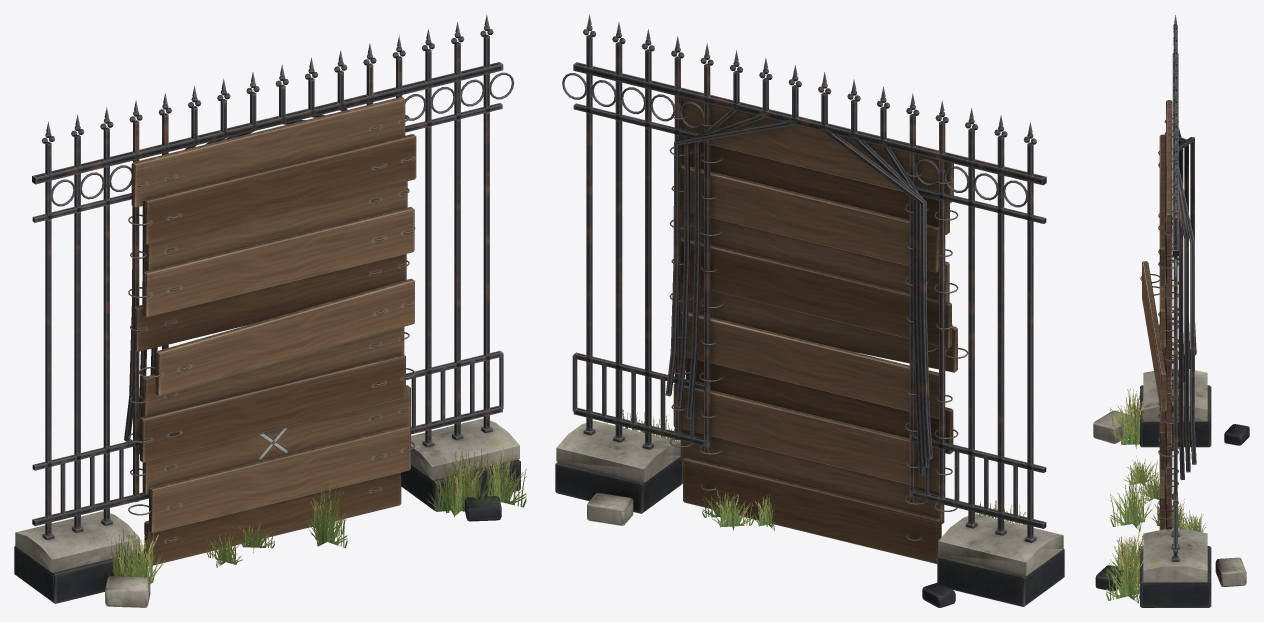
Rendered from SneakBentBars.fbx.
The picture shows the model from 3 angles, left to right: view 1: azimuth 30°, elevation 25°; view 2: azimuth 150°, elevation 25°; view 3: azimuth 270°, elevation 25°; orthographic projection. The views are drawn at different scales.
Parts seen in each view (by area): view 1: SneakBentBars_Main, SneakBentBars_Board9, SneakBentBars_Board7, SneakBentBars_Board3, SneakBentBars_Board1, SneakBentBars_Board5, SneakBentBars_Board10, SneakBentBars_Board6, SneakBentBars_Leaves, SneakBentBars_Board0, SneakBentBars_Board2, SneakBentBars_Board8 (+1 smaller); view 2: SneakBentBars_Main, SneakBentBars_Board0, SneakBentBars_Board2, SneakBentBars_Board6, SneakBentBars_Board8, SneakBentBars_Board4, SneakBentBars_Board10, SneakBentBars_Board1, SneakBentBars_Board5, SneakBentBars_Board7, SneakBentBars_Board3, SneakBentBars_Board9 (+1 smaller); view 3: SneakBentBars_Main, SneakBentBars_Leaves, SneakBentBars_Board5, SneakBentBars_Board9, SneakBentBars_Board10, SneakBentBars_Board3, SneakBentBars_Board7, SneakBentBars_Board1, SneakBentBars_Board2, SneakBentBars_Board8, SneakBentBars_Board6, SneakBentBars_Board4.
Part boxes in pixels (x1=…): SneakBentBars_Main: x1=14, y1=14, x2=520, y2=607; SneakBentBars_Board9: x1=128, y1=134, x2=416, y2=244; SneakBentBars_Board7: x1=128, y1=207, x2=415, y2=316; SneakBentBars_Board3: x1=128, y1=353, x2=415, y2=462; SneakBentBars_Board1: x1=128, y1=425, x2=415, y2=532; SneakBentBars_Board5: x1=139, y1=278, x2=414, y2=396; SneakBentBars_Board10: x1=130, y1=96, x2=409, y2=207; SneakBentBars_Board6: x1=130, y1=254, x2=409, y2=351; SneakBentBars_Leaves: x1=107, y1=444, x2=526, y2=583; SneakBentBars_Board0: x1=144, y1=472, x2=401, y2=565; SneakBentBars_Board2: x1=130, y1=385, x2=410, y2=494; SneakBentBars_Board8: x1=130, y1=181, x2=409, y2=271; SneakBentBars_Main: x1=555, y1=14, x2=1064, y2=607; SneakBentBars_Board0: x1=683, y1=457, x2=941, y2=563; SneakBentBars_Board2: x1=671, y1=384, x2=952, y2=491; SneakBentBars_Board6: x1=671, y1=237, x2=952, y2=348; SneakBentBars_Board8: x1=671, y1=164, x2=952, y2=272; SneakBentBars_Board4: x1=677, y1=311, x2=952, y2=418; SneakBentBars_Board10: x1=671, y1=97, x2=953, y2=203; SneakBentBars_Board1: x1=669, y1=429, x2=957, y2=523; SneakBentBars_Board5: x1=669, y1=283, x2=968, y2=372; SneakBentBars_Board7: x1=669, y1=210, x2=958, y2=302; SneakBentBars_Board3: x1=674, y1=357, x2=958, y2=454; SneakBentBars_Board9: x1=669, y1=137, x2=958, y2=234; SneakBentBars_Main: x1=1093, y1=15, x2=1249, y2=607; SneakBentBars_Leaves: x1=1106, y1=388, x2=1206, y2=603; SneakBentBars_Board5: x1=1140, y1=261, x2=1179, y2=411; SneakBentBars_Board9: x1=1158, y1=134, x2=1178, y2=286; SneakBentBars_Board10: x1=1164, y1=100, x2=1178, y2=251; SneakBentBars_Board3: x1=1158, y1=336, x2=1178, y2=469; SneakBentBars_Board7: x1=1158, y1=211, x2=1178, y2=348; SneakBentBars_Board1: x1=1158, y1=399, x2=1178, y2=529; SneakBentBars_Board2: x1=1164, y1=369, x2=1178, y2=504; SneakBentBars_Board8: x1=1164, y1=181, x2=1178, y2=315; SneakBentBars_Board6: x1=1164, y1=244, x2=1178, y2=377; SneakBentBars_Board4: x1=1164, y1=306, x2=1178, y2=439.
Size of the model in its own units: 821 by 761 by 268.
